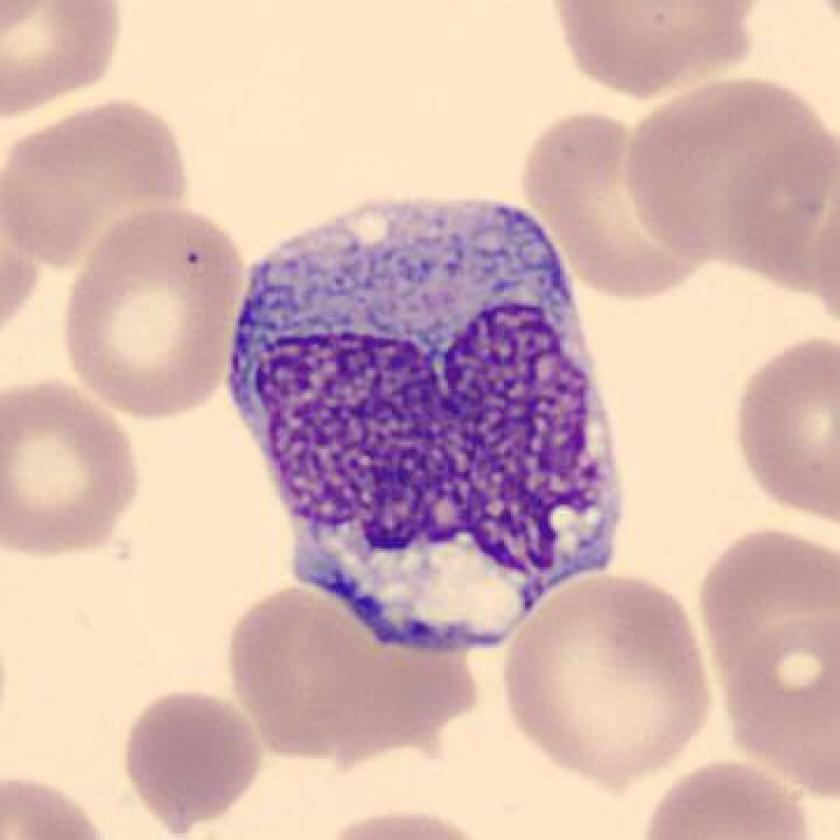monocyte: (211, 175, 657, 668)
